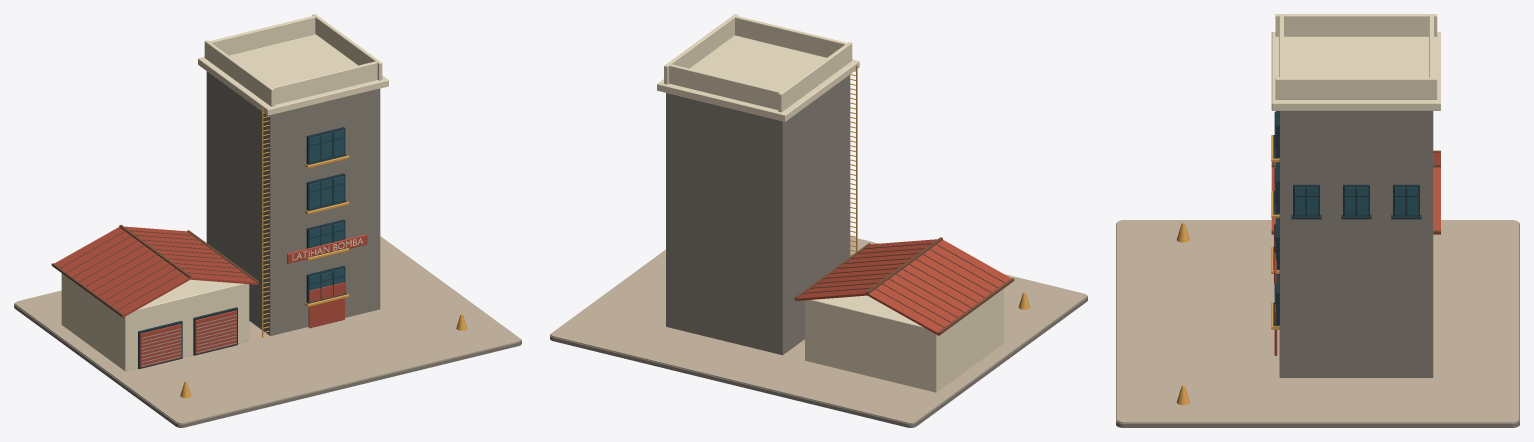
3 views of the same model, side by side, from view 1: azimuth 30°, elevation 25°; view 2: azimuth 150°, elevation 25°; view 3: azimuth 270°, elevation 25° (orthographic). The views are drawn at different scales.
Parts seen in each view (by area): view 1: Drill Tower, Training Ground, Equipment Shed, Training Fixtures; view 2: Drill Tower, Training Ground, Equipment Shed, Training Fixtures; view 3: Drill Tower, Training Ground, Equipment Shed.
Part boxes in pixels (x1,y1,x2,y2): Drill Tower: [198, 14, 388, 335]; Training Ground: [14, 236, 521, 427]; Equipment Shed: [51, 224, 258, 371]; Training Fixtures: [262, 108, 367, 337]; Drill Tower: [657, 14, 859, 355]; Training Ground: [550, 236, 1087, 427]; Equipment Shed: [794, 237, 1014, 392]; Training Fixtures: [849, 65, 857, 255]; Drill Tower: [1271, 14, 1440, 377]; Training Ground: [1116, 220, 1519, 427]; Equipment Shed: [1271, 150, 1440, 234].
Bounding box in the file's own units: 25 × 17.45 × 21.
